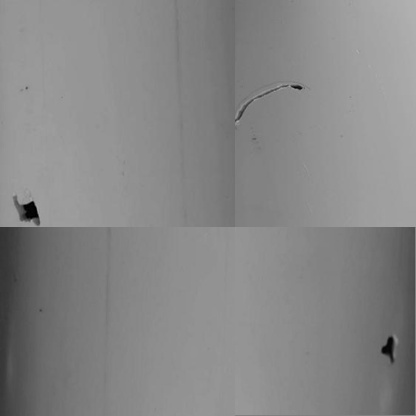fengxi: (232, 79, 305, 122)
kongdong: (13, 191, 42, 228), (375, 330, 404, 367)
